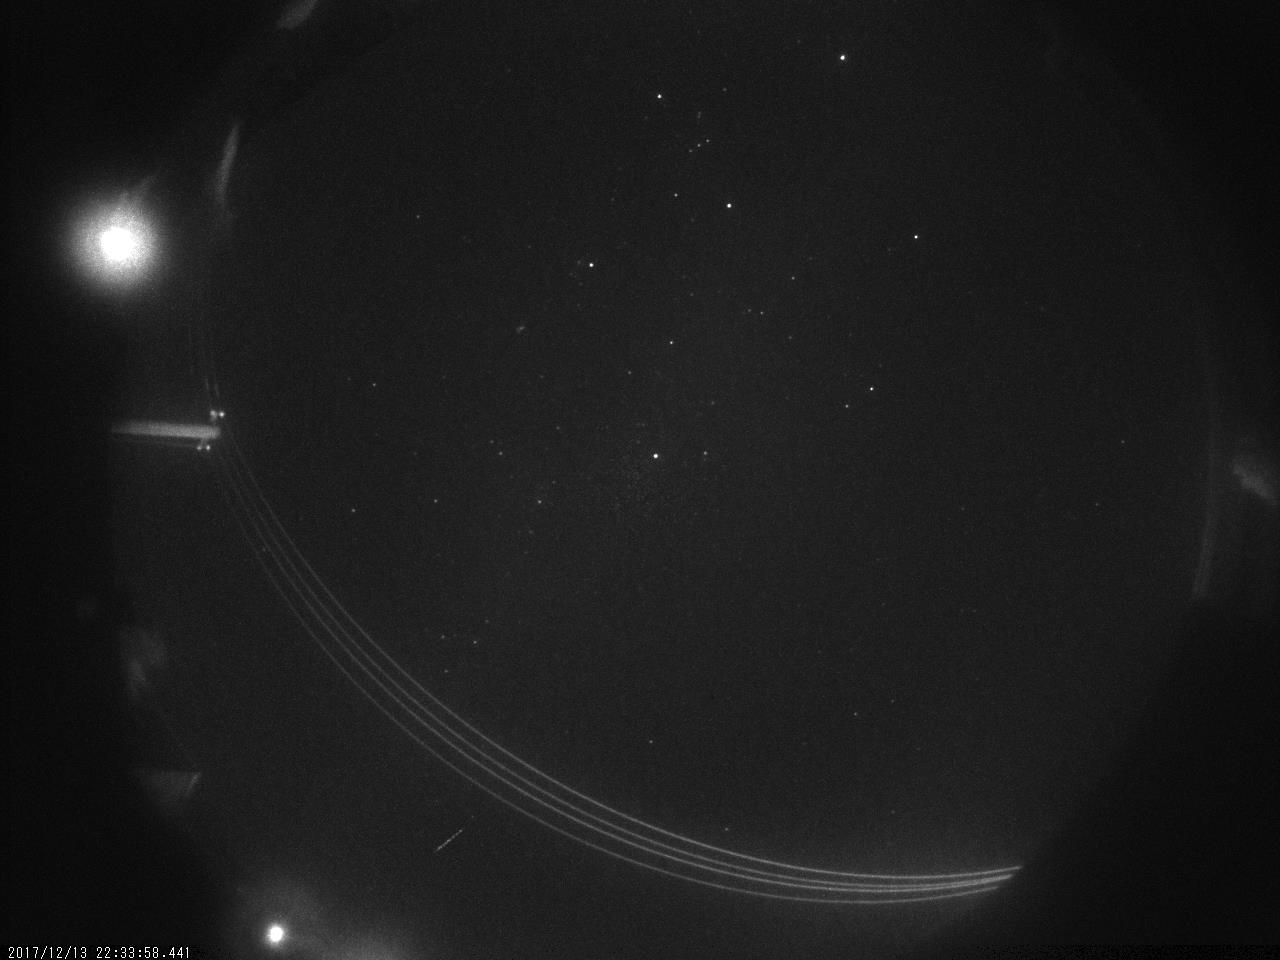meteor: (427, 823, 470, 862)
